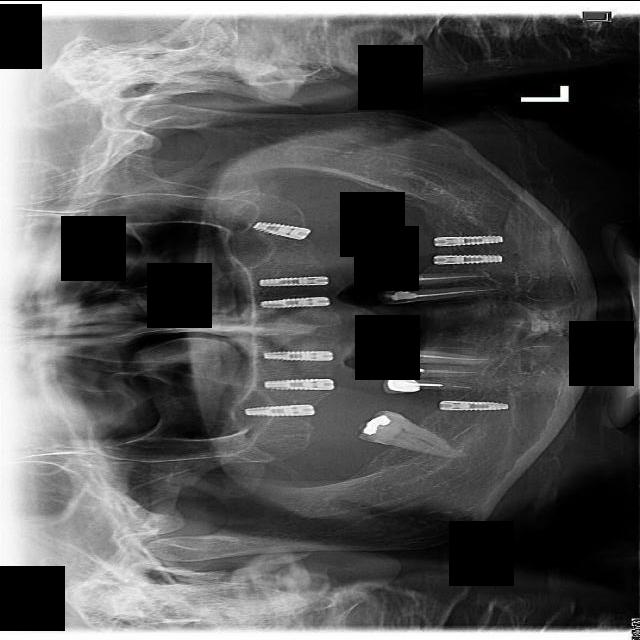55: (253, 219, 312, 240), (260, 378, 332, 393), (247, 403, 312, 417), (259, 275, 329, 288), (431, 252, 500, 264), (260, 296, 328, 307), (433, 235, 501, 246), (438, 400, 509, 410), (264, 352, 329, 361)
71: (411, 381, 444, 386)
74: (416, 285, 499, 297), (415, 273, 484, 280), (420, 354, 489, 361), (419, 368, 478, 374), (448, 384, 471, 388)
NucleOSS Implant: (359, 409, 391, 440)
Straumann Implant: (378, 273, 419, 287), (381, 349, 423, 361), (387, 289, 417, 299)
Zimmer Implant: (377, 360, 419, 378), (380, 376, 420, 394)
